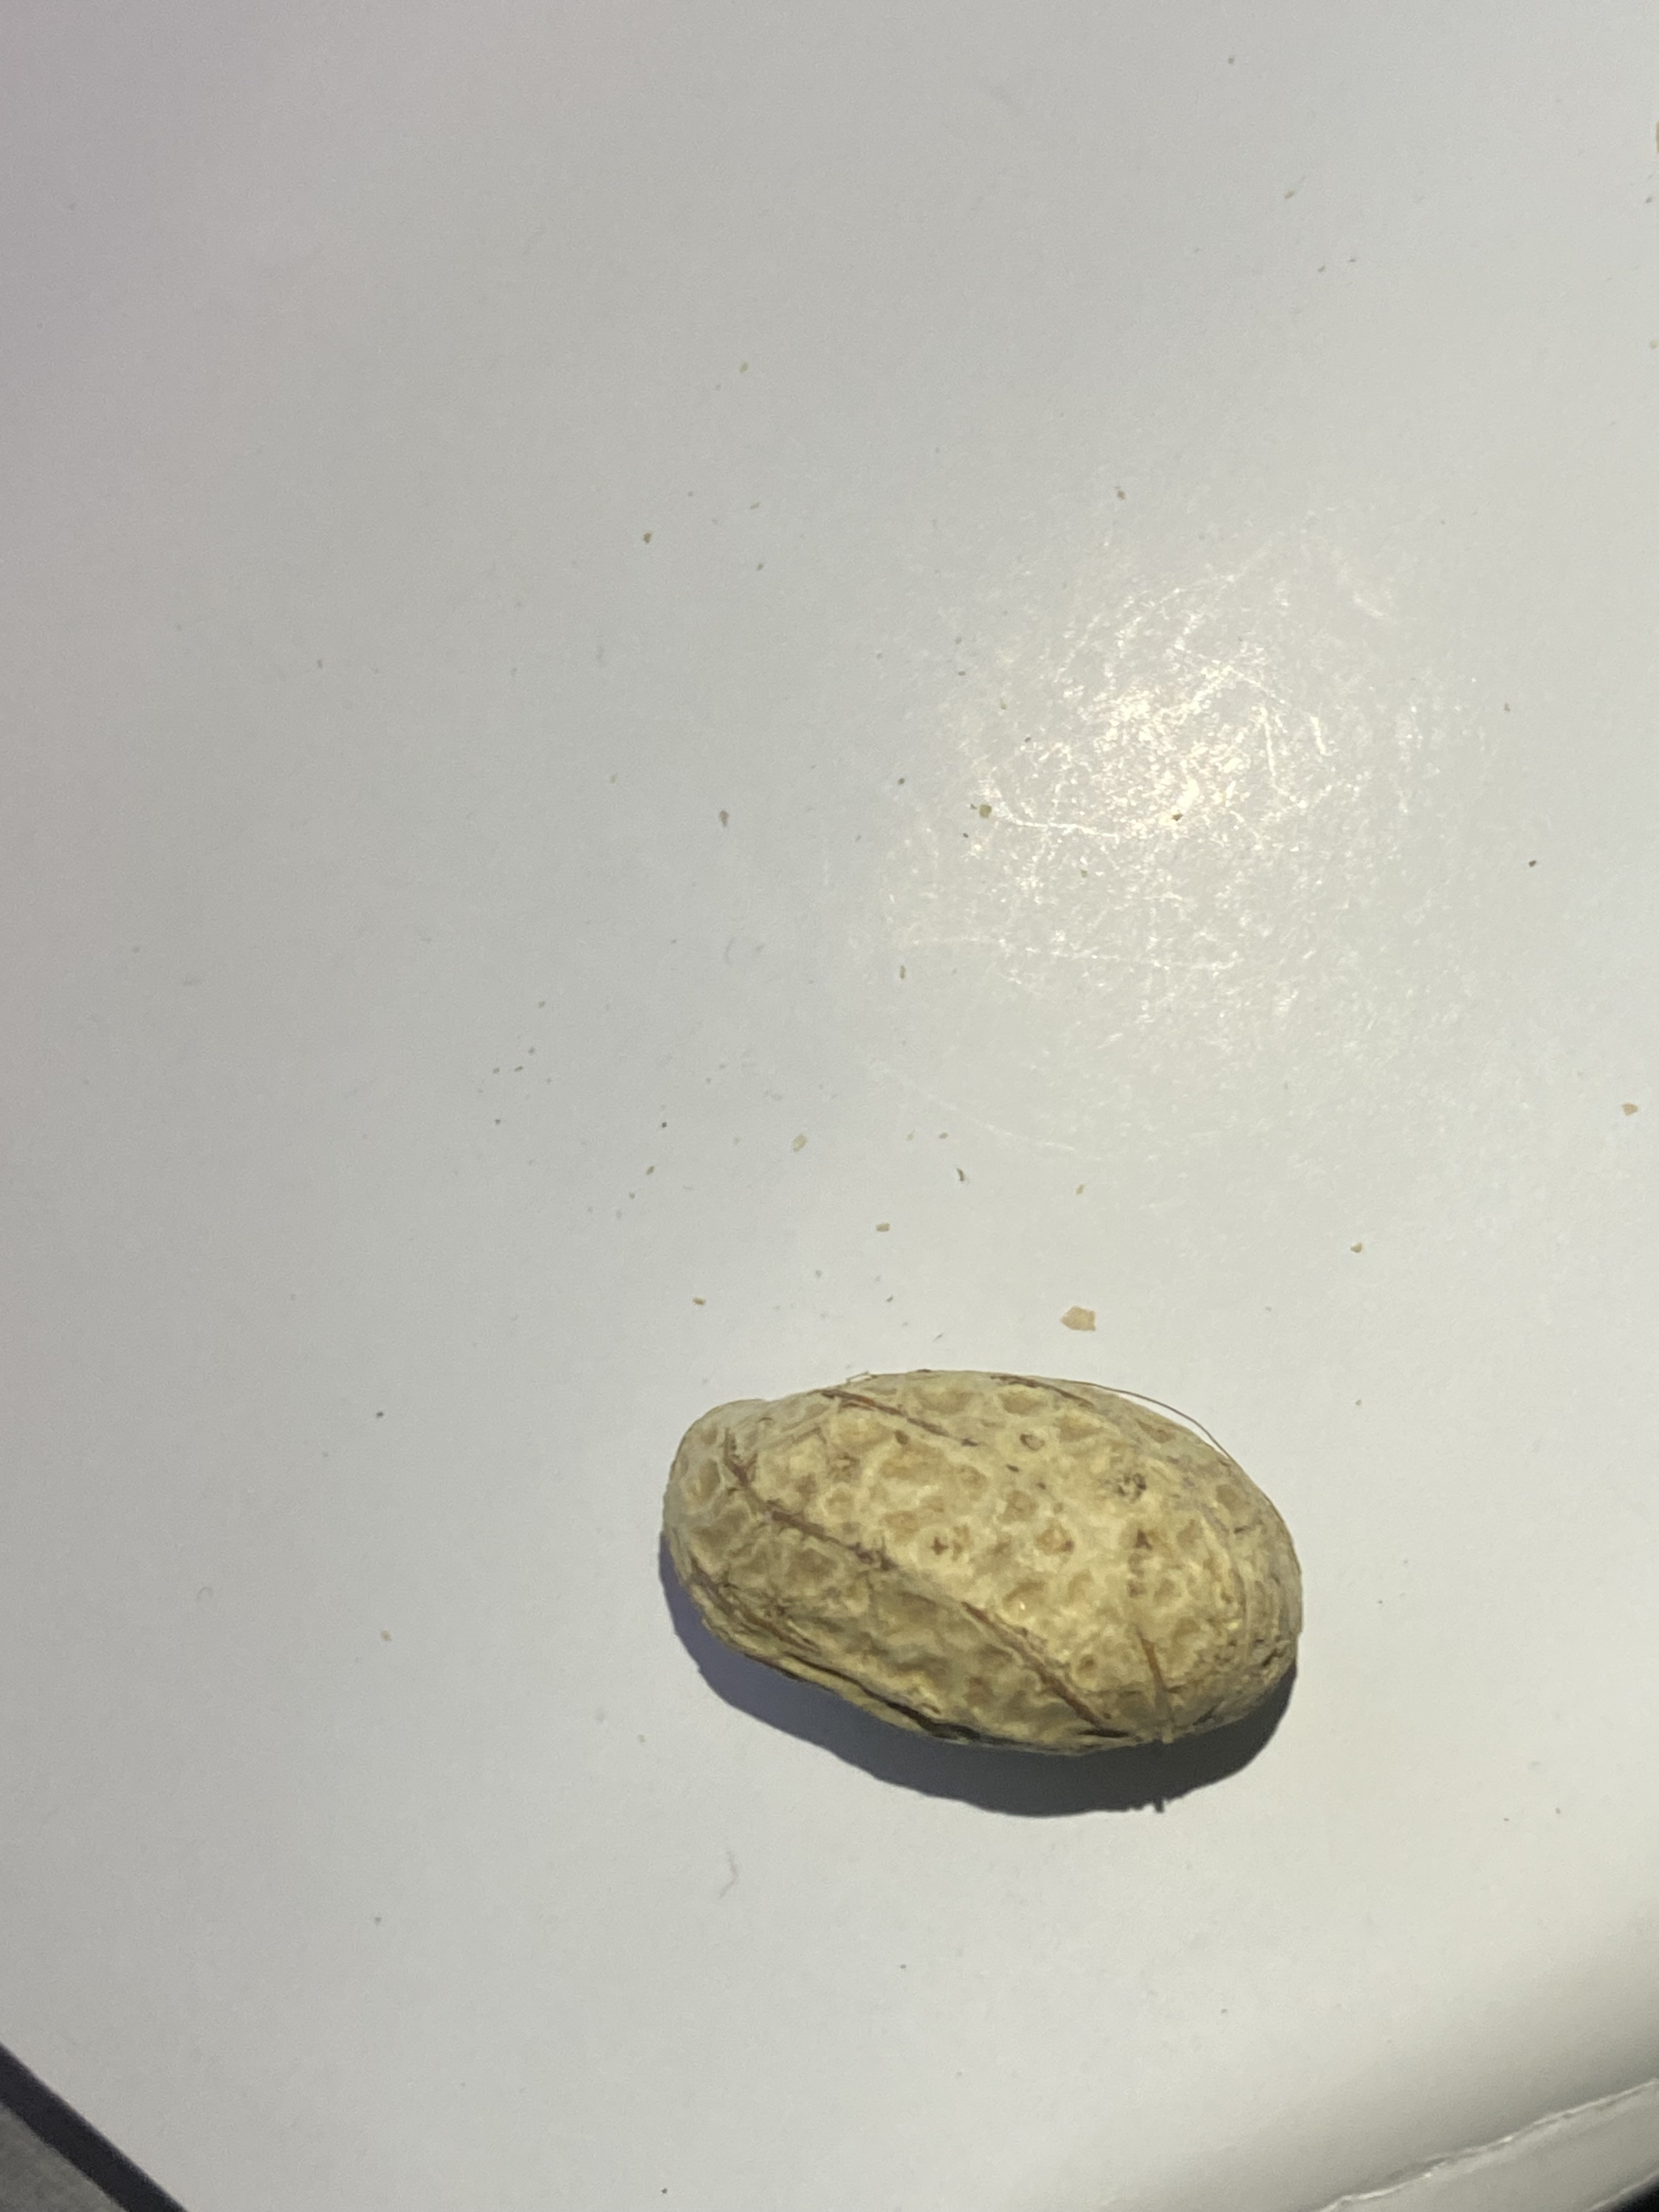kacang1: (629, 1350, 1314, 1771)
